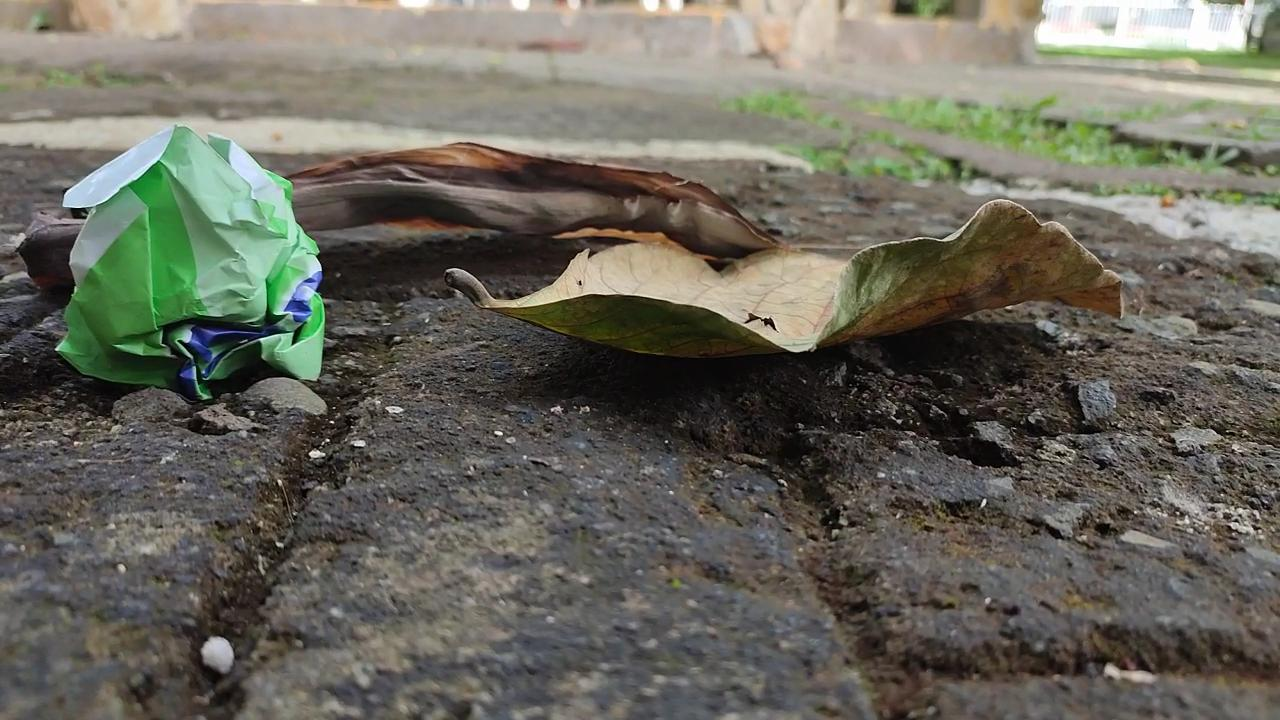Paper: (38, 104, 332, 414)
